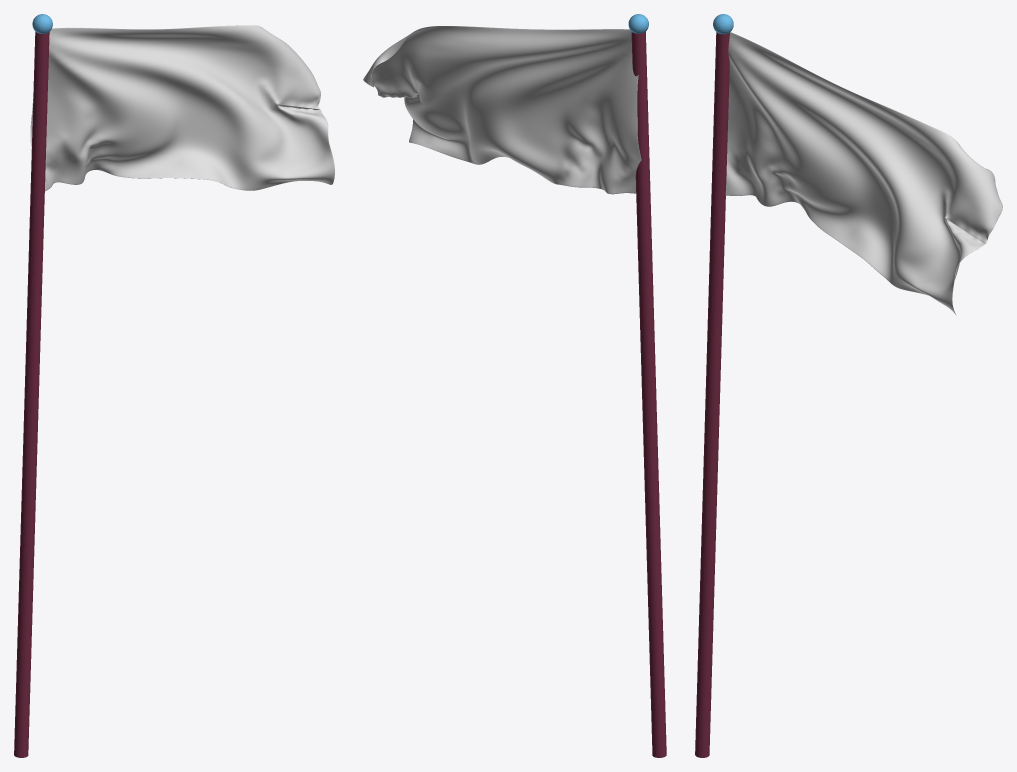
The model's file is flag-marker.glb.
3 renders of one model, left to right at view 1: azimuth 30°, elevation 25°; view 2: azimuth 150°, elevation 25°; view 3: azimuth 330°, elevation 25°, orthographic.
Visible parts, largest first — view 1: Canada Flag, Cylinder; view 2: Canada Flag, Cylinder; view 3: Canada Flag, Cylinder.
Part boxes in pixels (x1,y1,x2,y2): Canada Flag: [30, 25, 334, 191]; Cylinder: [14, 32, 49, 757]; Canada Flag: [363, 26, 641, 194]; Cylinder: [631, 32, 666, 757]; Canada Flag: [725, 32, 1002, 315]; Cylinder: [695, 32, 729, 757].
Size of the model in its own units: 3.79 by 8.88 by 1.08.
